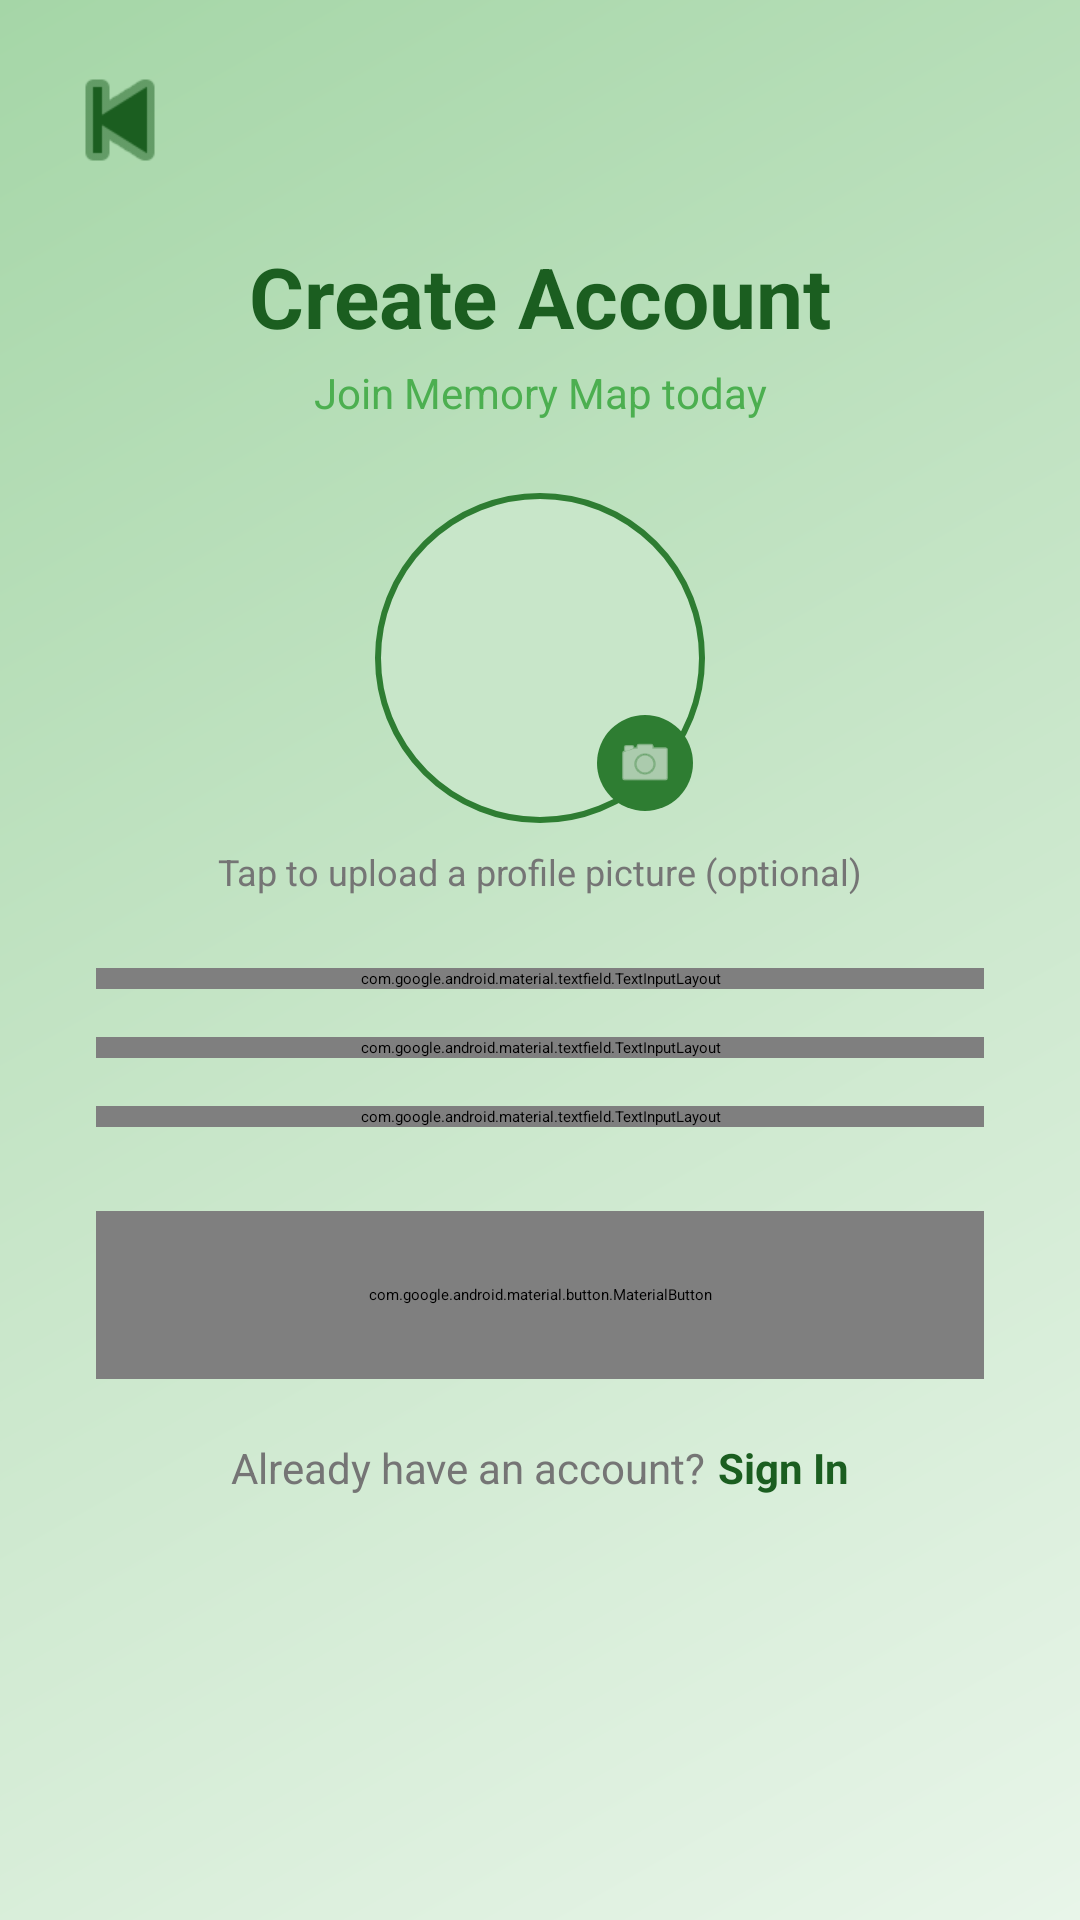

Locate icon controls on the screen. Image size 1080 × 1920, boxes as rect(x1, y1, x2, y2).
Back: rect(85, 79, 155, 161)
Pick image: rect(597, 715, 693, 811)
